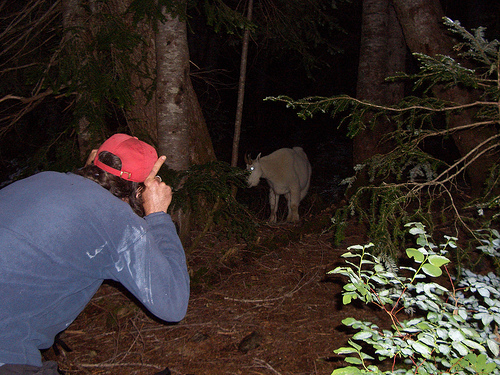goat: (241, 146, 312, 225)
